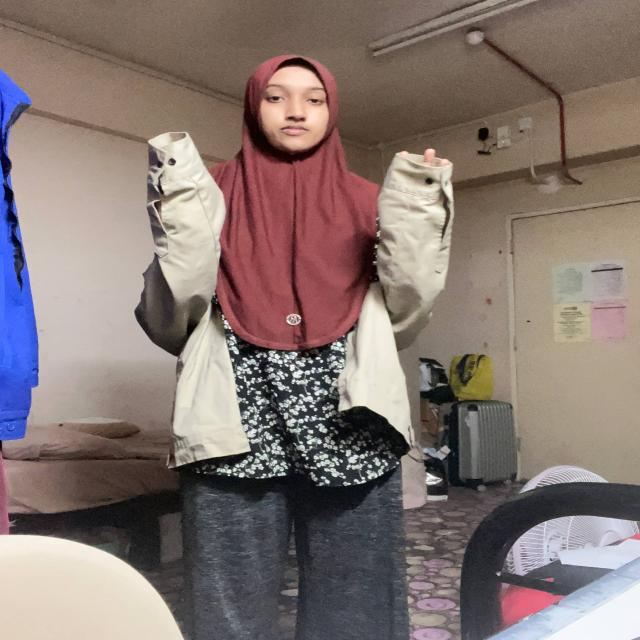person_without_labcoat: (135, 54, 453, 640)
